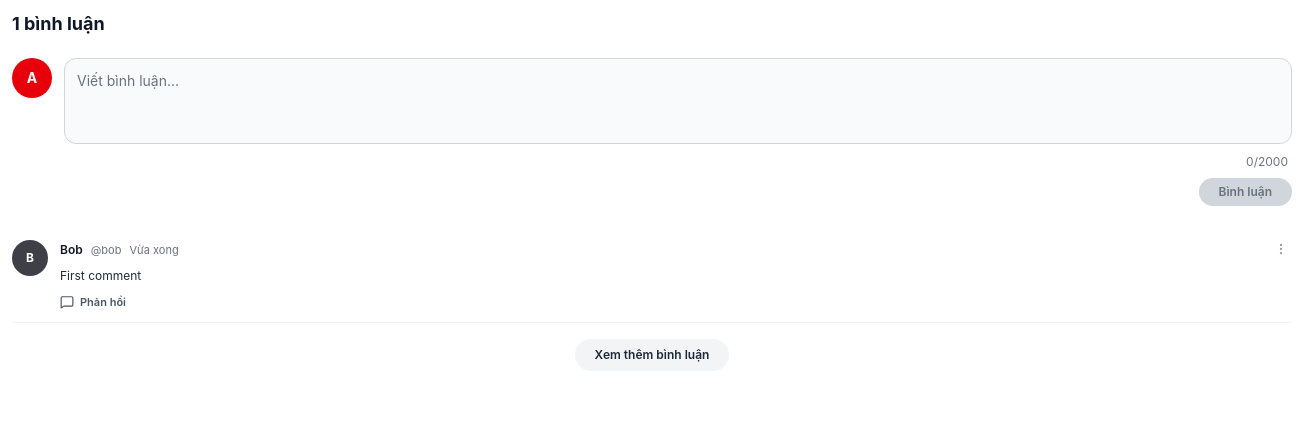
Test case: Social Features (Task U3) › CommentSection & CommentComposer › renders comment list and handles cursor pagination ("Xem thêm")
This screenshot has width=1304, height=427.
Expected: the text "First comment" is shown, 60,268 -> 141,283
Expected: the text "Bob" is shown, 60,242 -> 83,258
# Click "Xem thêm bình luận"
Click the button "Xem thêm bình luận" at [652, 355], box 575,339 -> 729,371
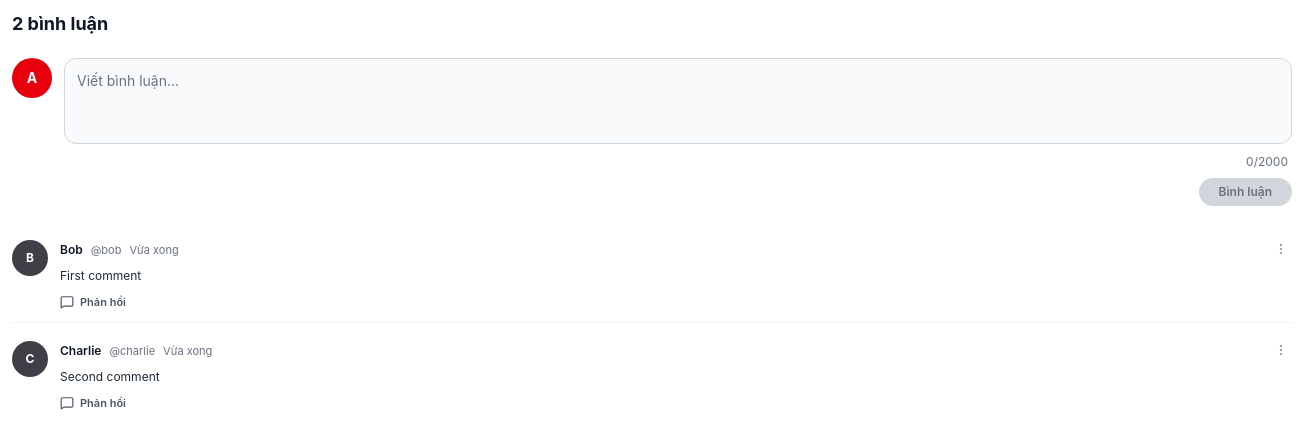
Expected: the text "First comment" is shown, 60,268 -> 141,283
Expected: the text "Second comment" is shown, 60,369 -> 160,384
